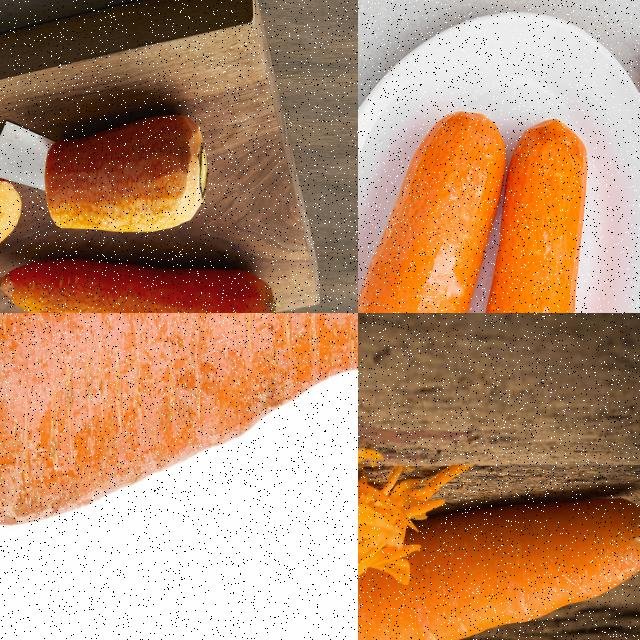carrot: (0, 313, 357, 550), (358, 431, 639, 639), (358, 108, 511, 312), (467, 115, 592, 312), (44, 117, 206, 234), (1, 249, 278, 312)
